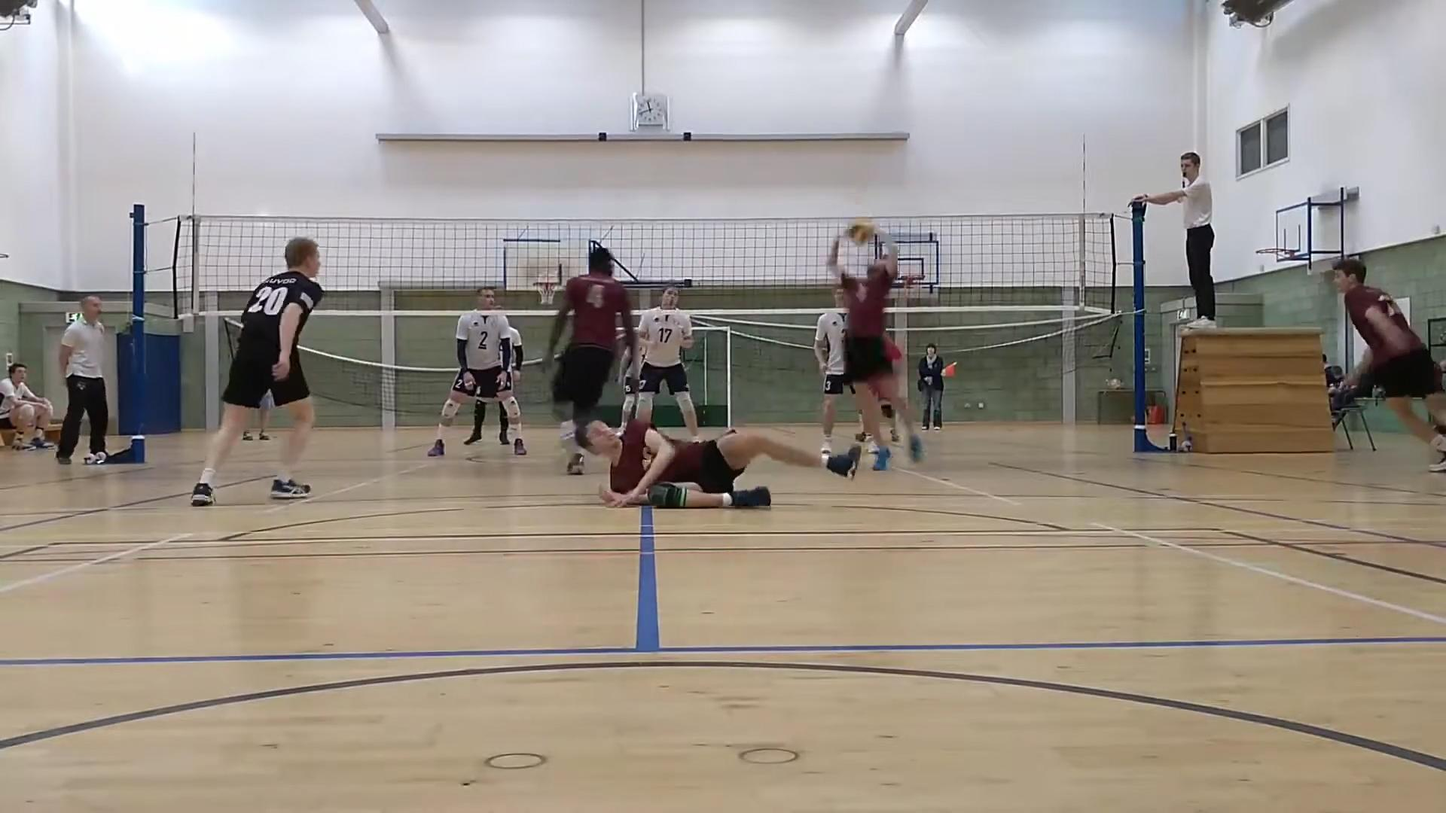Player: (191, 238, 323, 506), (584, 420, 861, 507), (1333, 258, 1445, 471), (544, 244, 637, 474), (428, 288, 519, 456), (636, 287, 697, 440), (813, 288, 846, 453), (499, 327, 523, 396), (618, 348, 638, 425), (879, 397, 898, 442)
Set: (824, 235, 908, 469)
ball: (848, 223, 883, 243)
